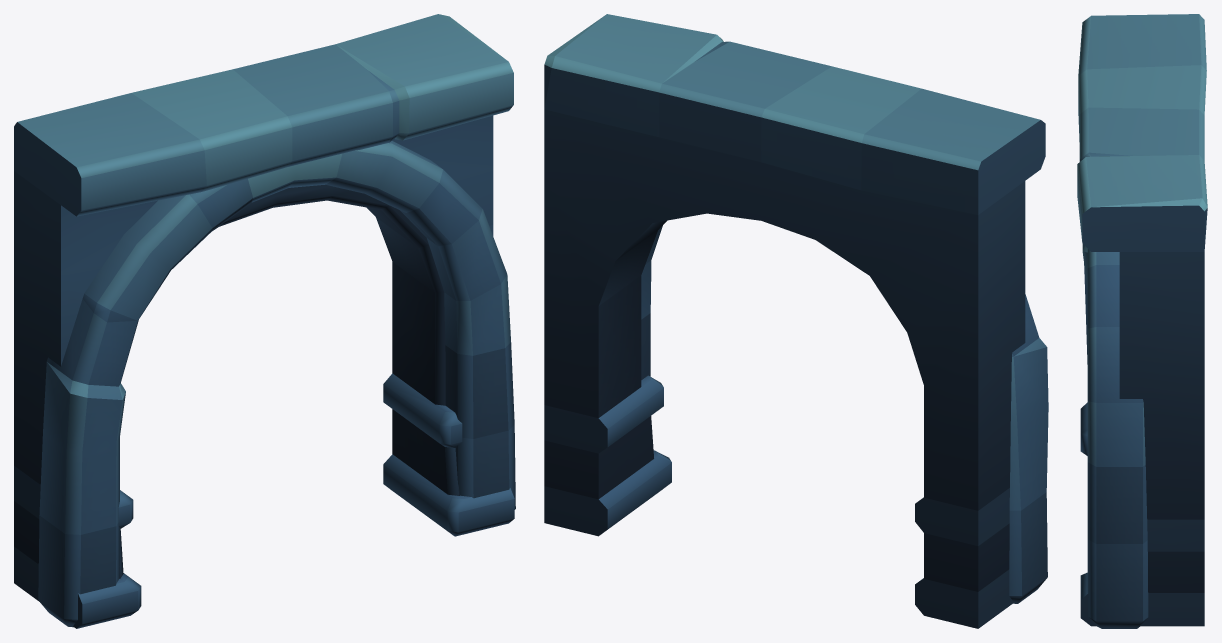
File: doorway_room_to_room.fbx
The picture shows the model from 3 angles, left to right: view 1: azimuth 30°, elevation 25°; view 2: azimuth 150°, elevation 25°; view 3: azimuth 270°, elevation 25°; orthographic projection. The views are drawn at different scales.
Visible parts, largest first — view 1: doorway_room_to_room; view 2: doorway_room_to_room; view 3: doorway_room_to_room.
Boxes of the visible parts, bbox=[...] form: doorway_room_to_room: bbox=[14, 14, 515, 628]; doorway_room_to_room: bbox=[544, 14, 1048, 628]; doorway_room_to_room: bbox=[1077, 14, 1207, 628].
Bounding box in the file's own units: 418 × 414 × 115.
